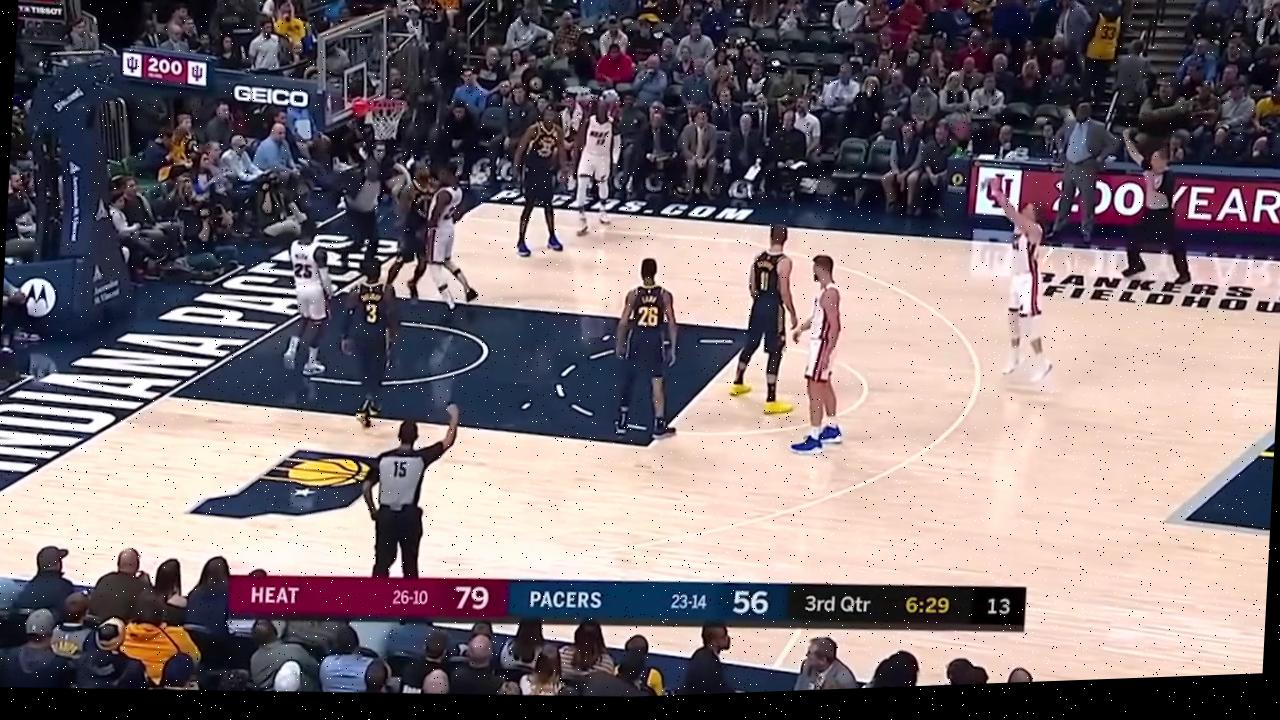foul: (379, 155, 484, 312)
